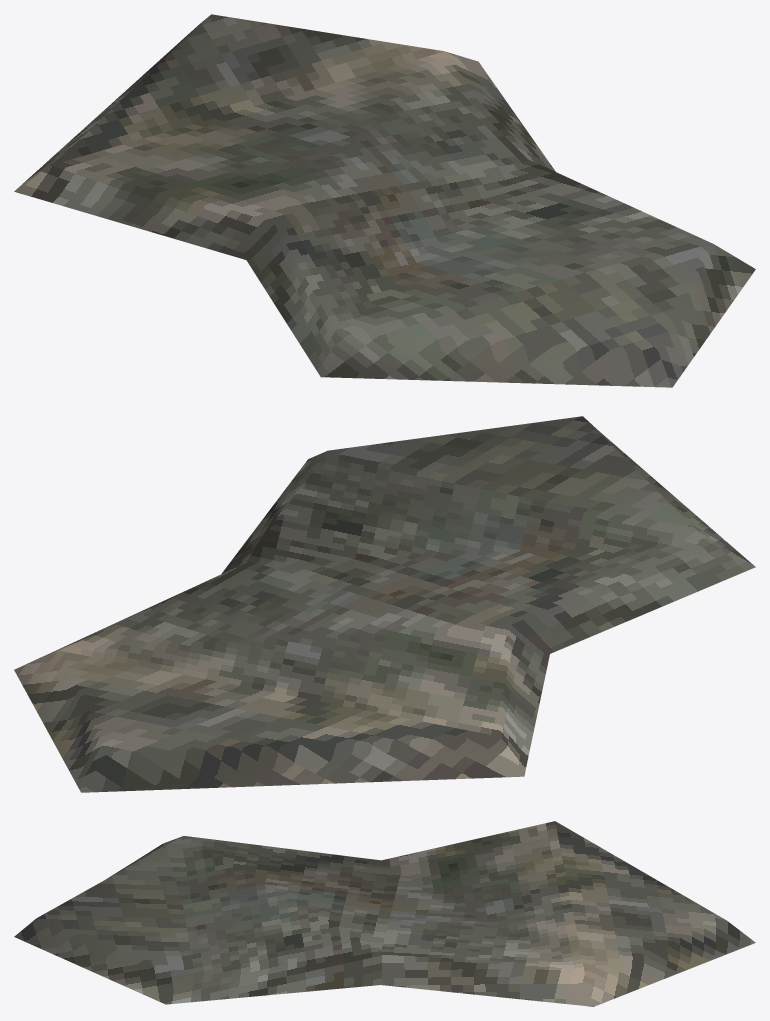
The model's file is con_gen_organic_hide_wooly_l3.fbx.
3 renders of one model, top to bottom at view 1: azimuth 30°, elevation 25°; view 2: azimuth 150°, elevation 25°; view 3: azimuth 270°, elevation 25°, orthographic. The views are drawn at different scales.
Visible parts, largest first — view 1: mesh_node; view 2: mesh_node; view 3: mesh_node.
Part boxes in pixels (x1,y1,x2,y2): mesh_node: (14, 14, 755, 387); mesh_node: (14, 416, 755, 792); mesh_node: (14, 821, 755, 1006).
Bounding box in the file's own units: 1.14 × 0.0597 × 2.
